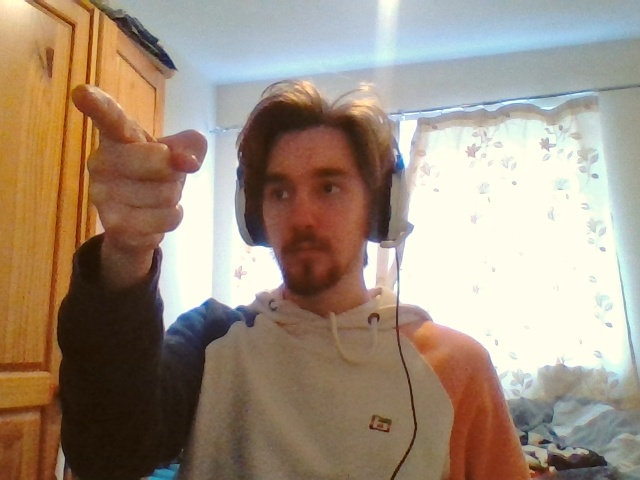you: (71, 85, 208, 242)
